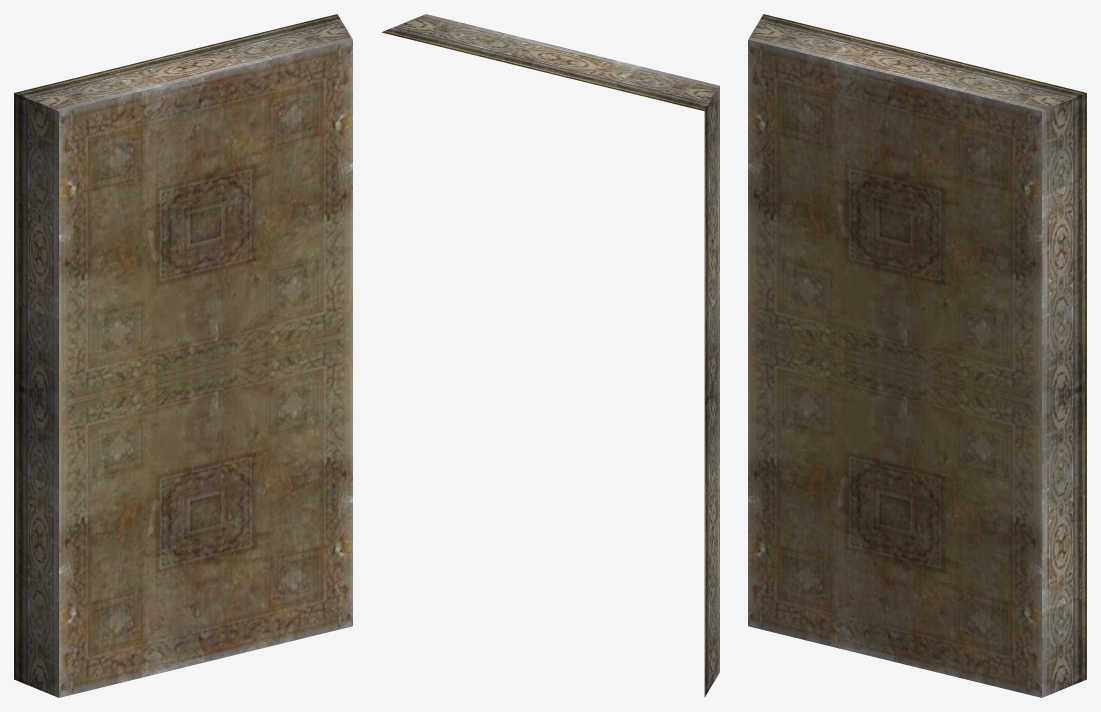
3 renders of one model, left to right at view 1: azimuth 30°, elevation 25°; view 2: azimuth 150°, elevation 25°; view 3: azimuth 330°, elevation 25°, orthographic.
Visible parts, largest first — view 1: model_Object26; view 2: model_Object26; view 3: model_Object26.
Boxes of the visible parts, x1=… form: model_Object26: x1=14, y1=14, x2=352, y2=697; model_Object26: x1=381, y1=14, x2=719, y2=696; model_Object26: x1=748, y1=14, x2=1086, y2=697.
Size of the model in its own units: 2.37 by 4.1 by 0.3819.
1 material, 1 textured.
